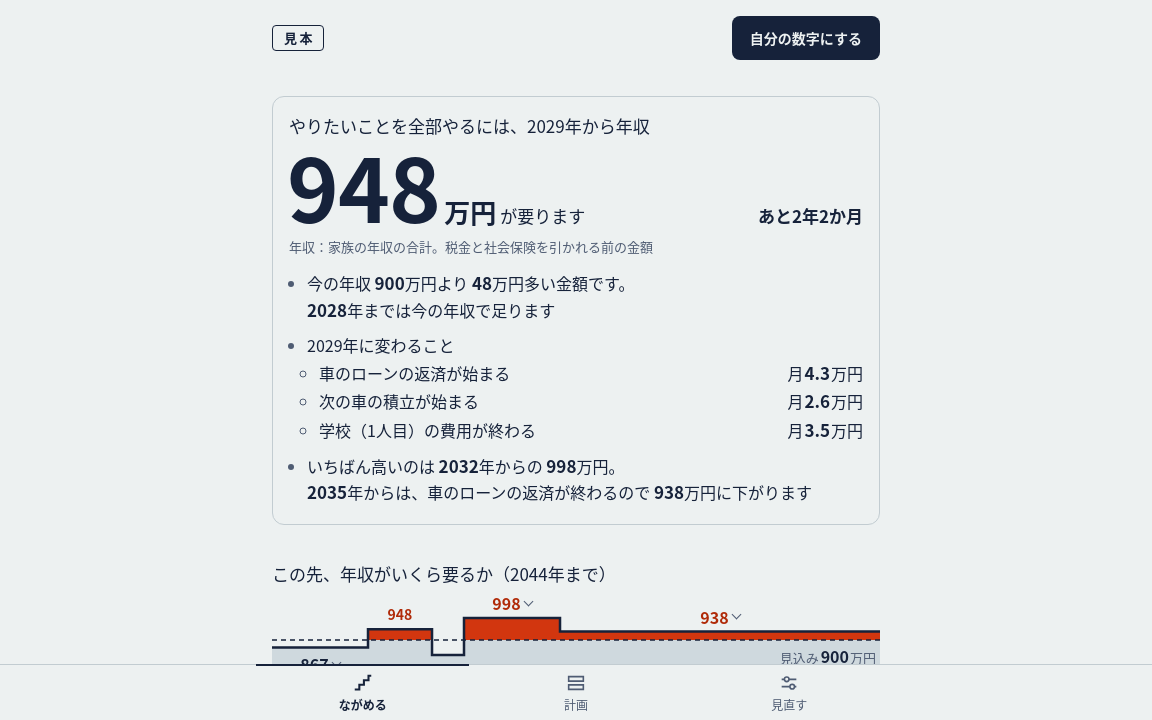
Test case: 計画（T6） › 読めない・負の金額は、欄に理由を出して保存しない
Click the button "自分の数字にする" at (806, 38), box [732,16,880,60]
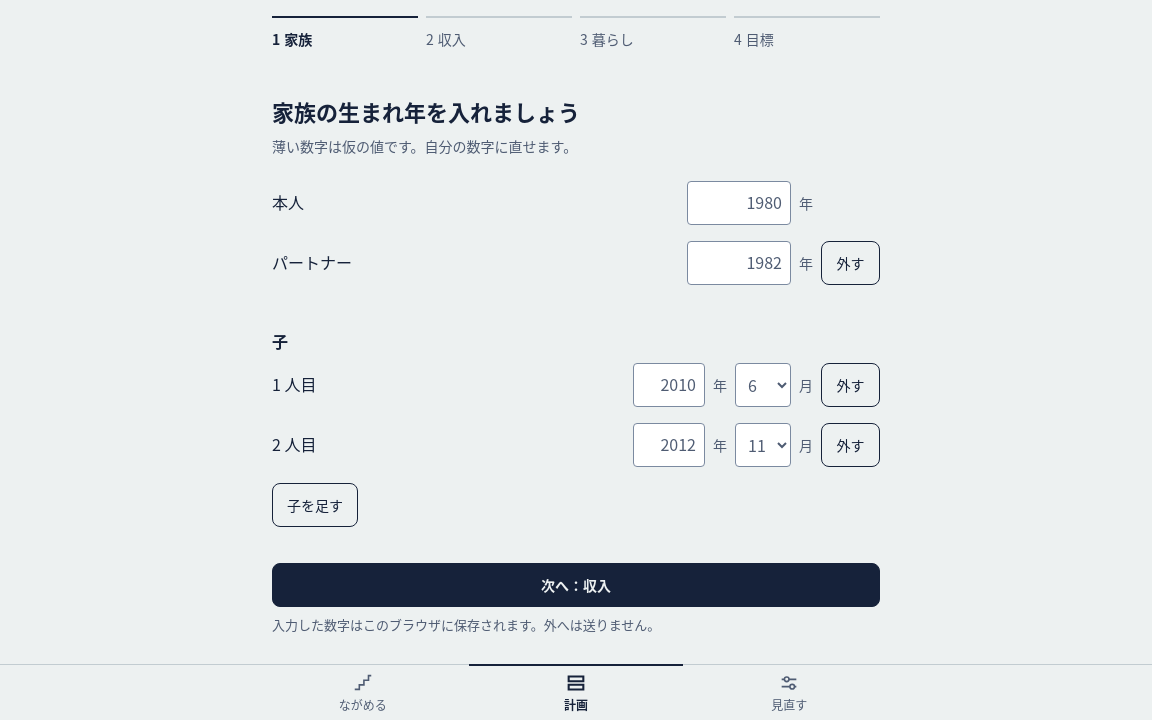
Click the link "3 暮らし" at (653, 38), box [580,16,726,60]
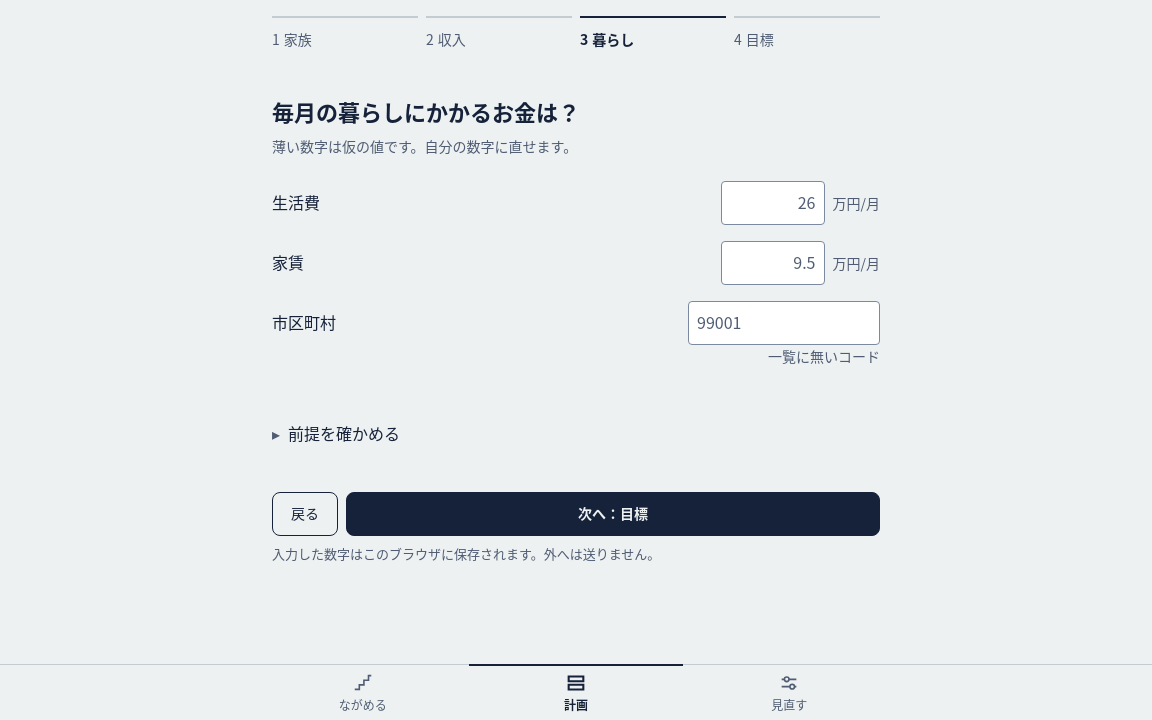
Replace the text in the field labelled "生活費" with "-5" at (772, 203), box [720,181,824,225]
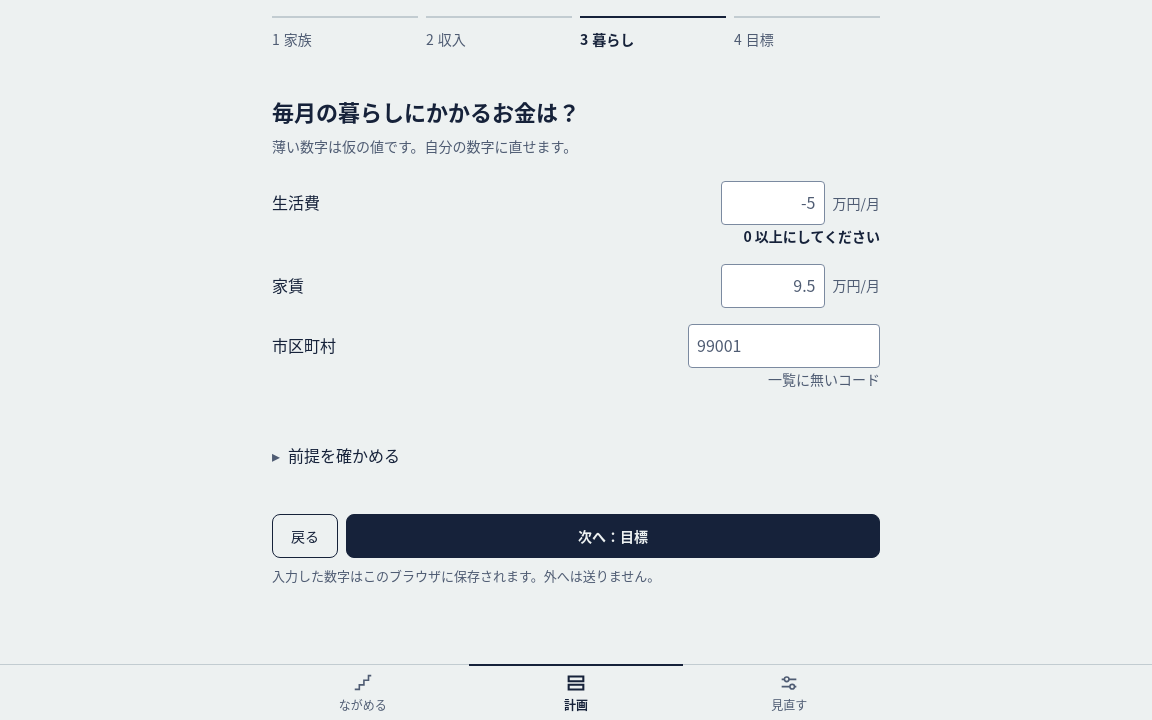
Result: the message shows "0 以上" at [743,226,880,246]
Replace the text in the field labelled "生活費" with "あ" at (772, 203), box [720,181,824,225]
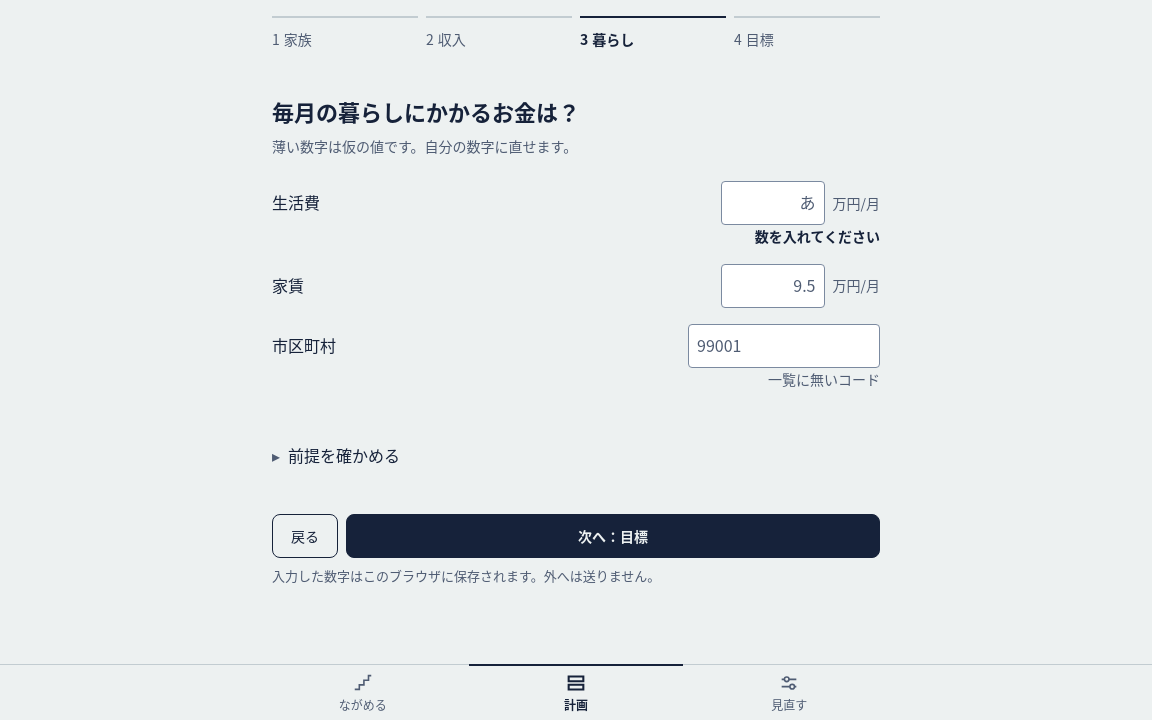
Result: the message shows "数を入れて" at [755,226,880,246]
